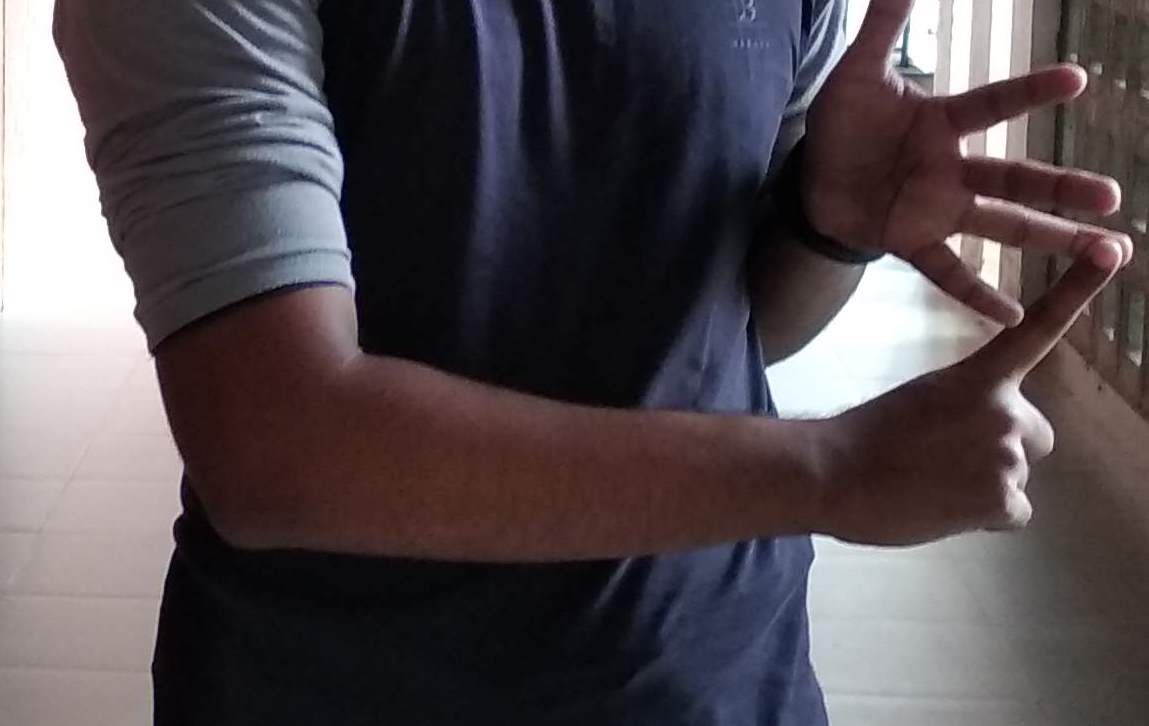e: (861, 61, 1141, 534)
